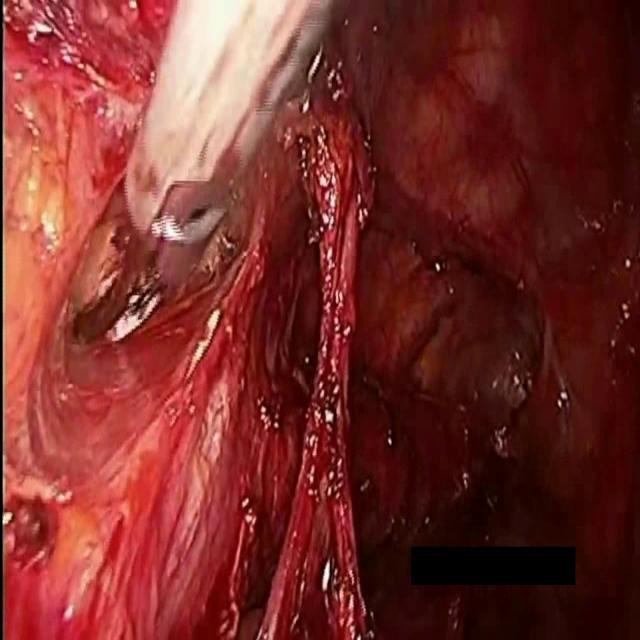surgical-area: (398, 538, 640, 639)
surgical-tool: (74, 0, 336, 353)
